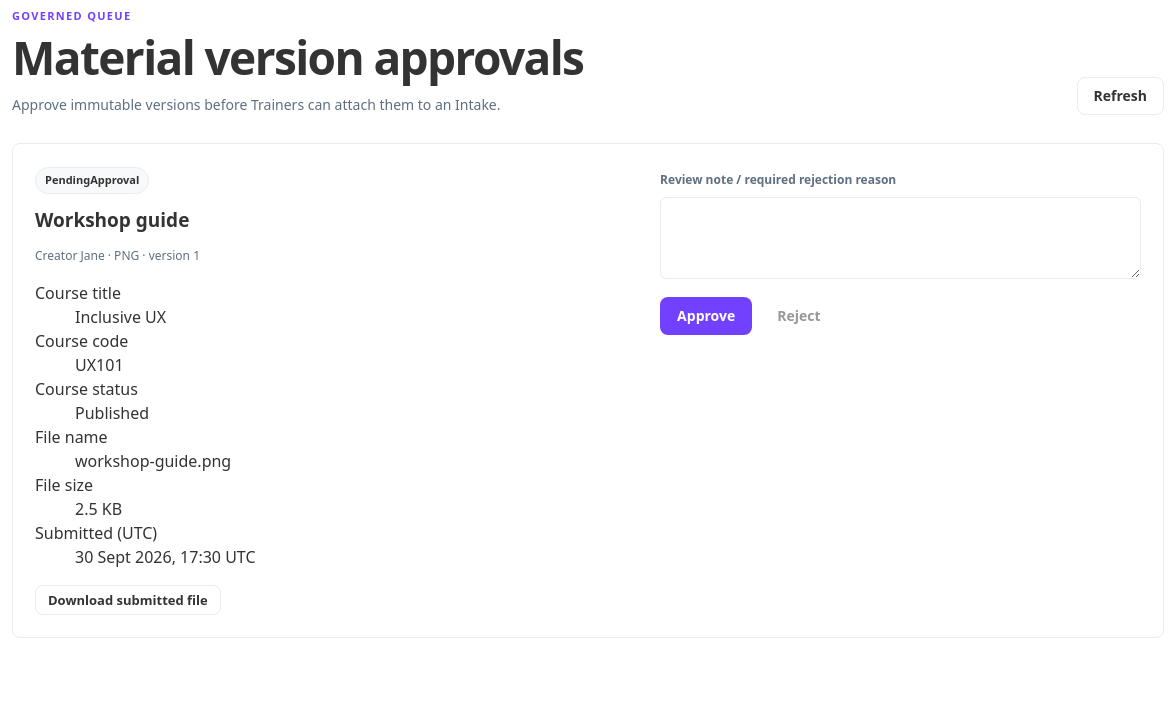
Scenario: keeps a failed review distinct from a failed queue load
Click the button "Approve" at (706, 316), box [660, 297, 752, 335]
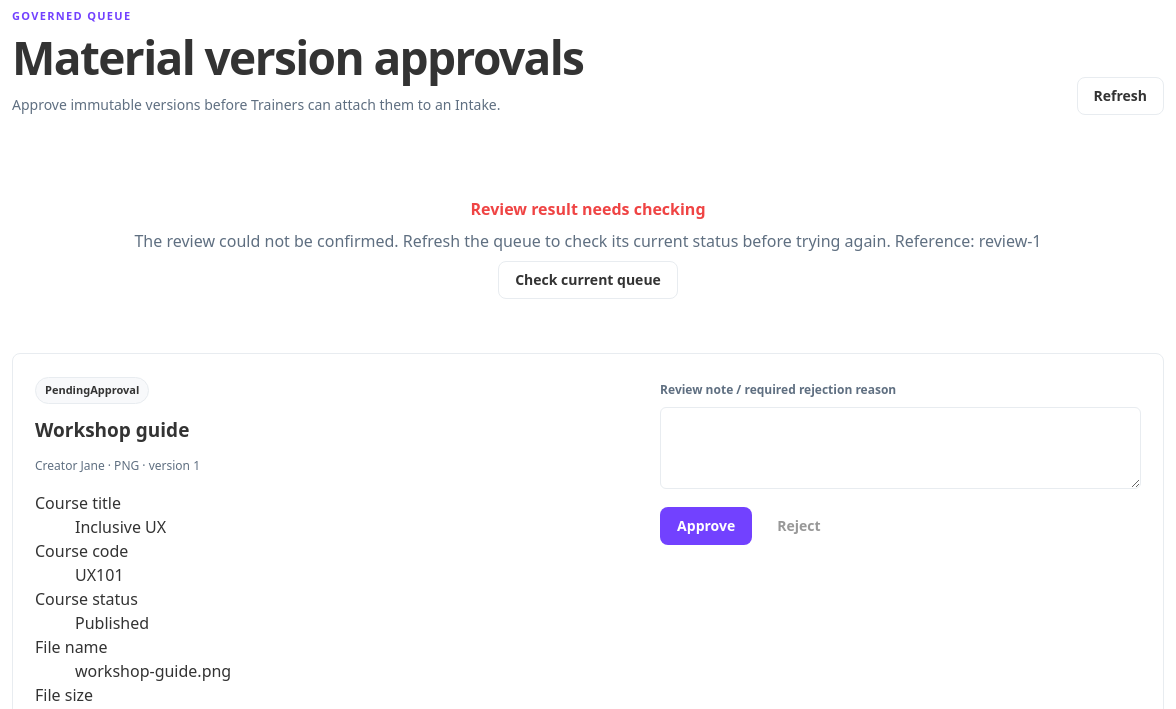
Expected: the button "Approve" is enabled, [660, 507, 752, 545]
Now the text "The review could not be confirmed" is shown, box [134, 230, 1042, 252]
